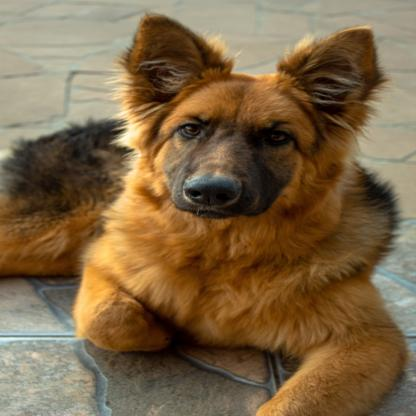german shepherd: (9, 14, 403, 416)
